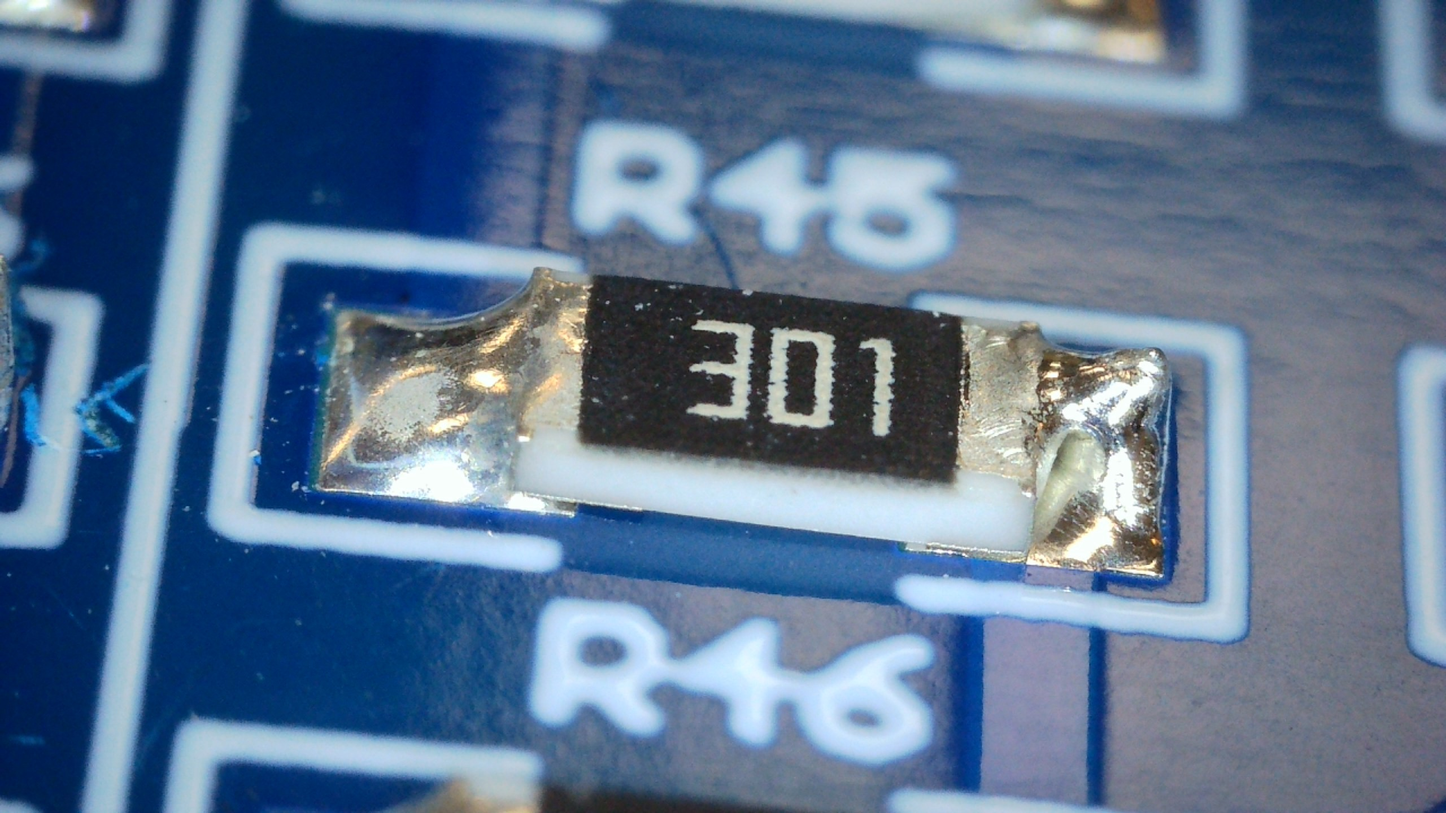NG: (1026, 333, 1171, 575)
OK: (319, 265, 590, 508)
